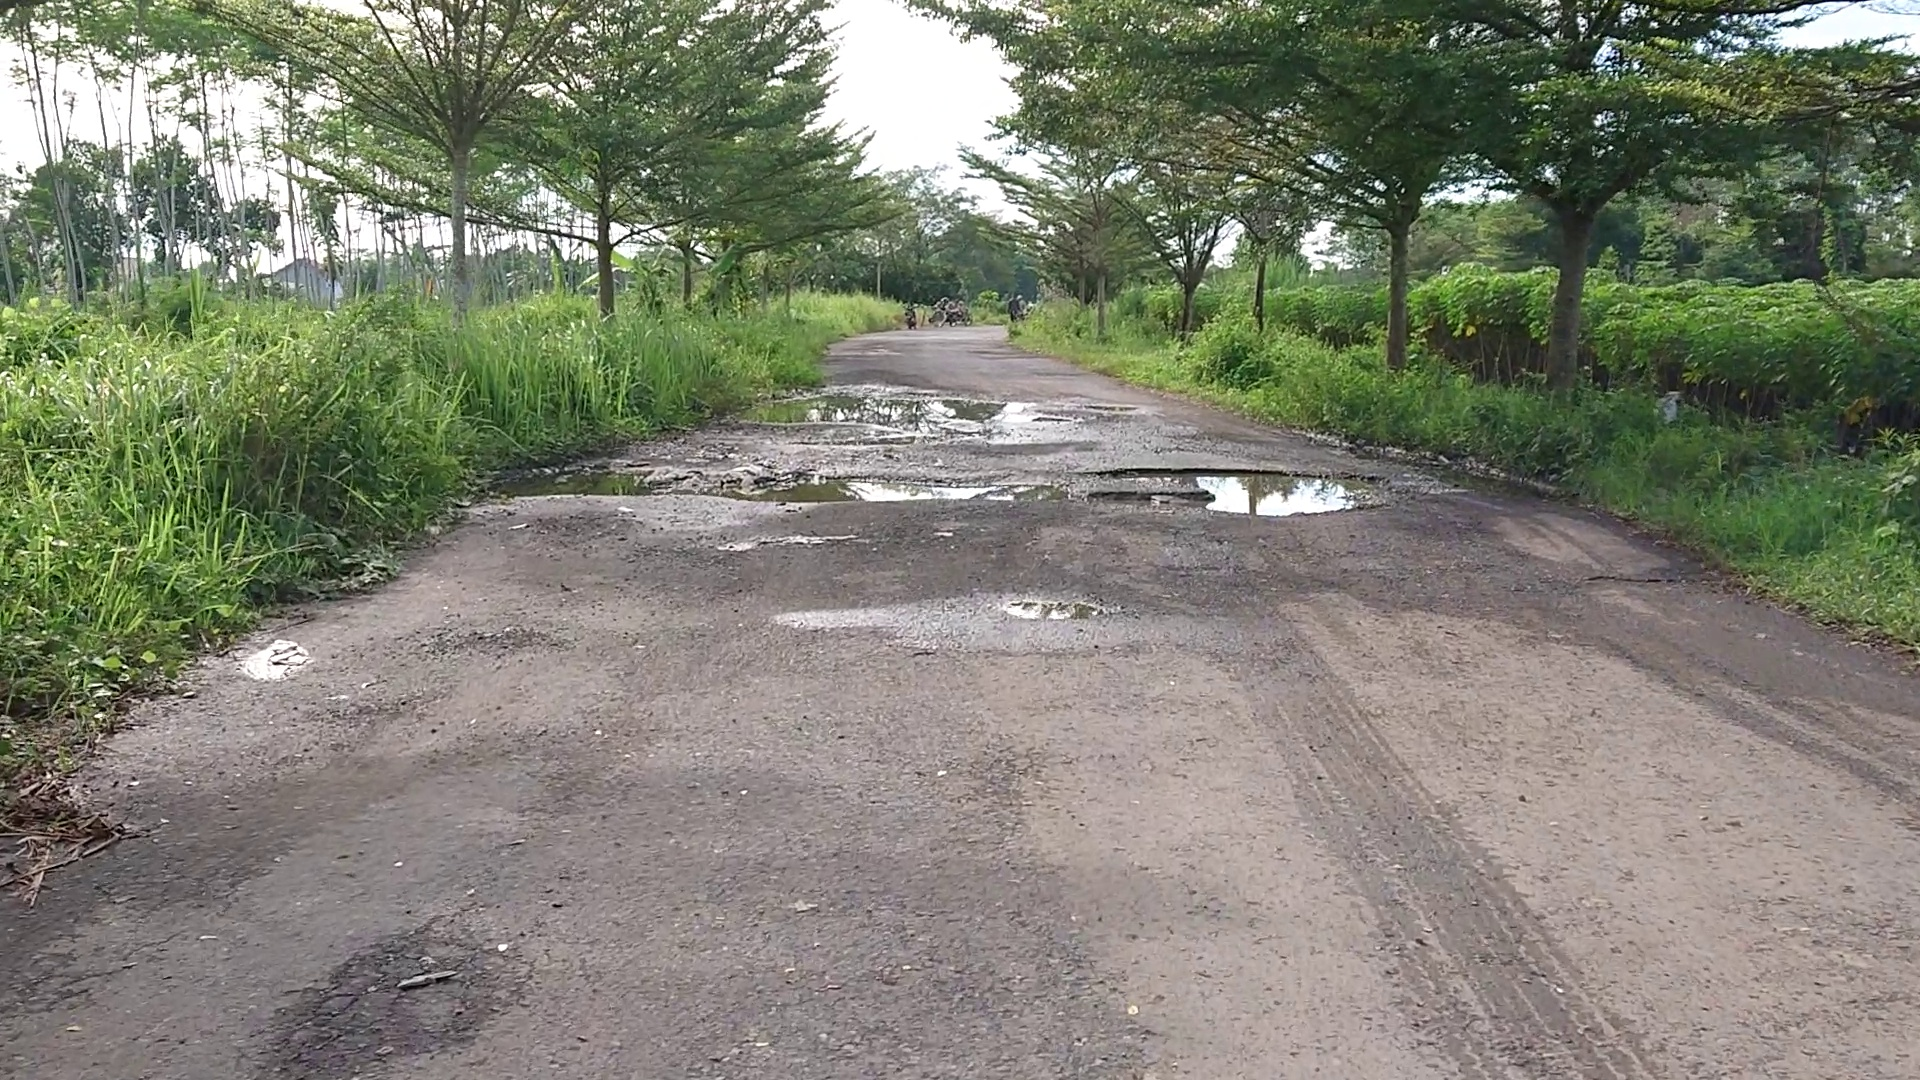Berlubang: (1102, 468, 1411, 524), (750, 394, 1084, 439), (748, 463, 1079, 504), (525, 468, 727, 506)
